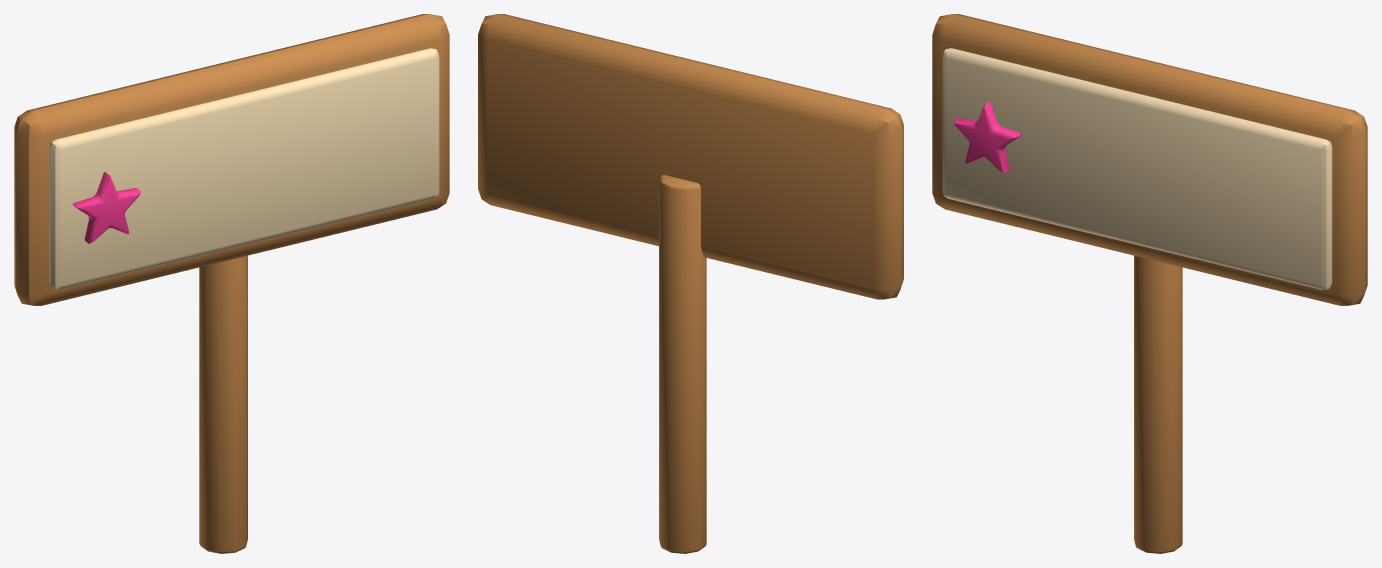
Rendered from base_signpost.obj.
The picture shows the model from 3 angles, left to right: view 1: azimuth 30°, elevation 25°; view 2: azimuth 150°, elevation 25°; view 3: azimuth 330°, elevation 25°; orthographic projection. The views are drawn at different scales.
Visible parts, largest first — view 1: base_signpost; view 2: base_signpost; view 3: base_signpost.
Part boxes in pixels (box(x1,y1,x2,y2)): base_signpost: box(14, 14, 449, 553); base_signpost: box(478, 14, 903, 553); base_signpost: box(932, 14, 1367, 553).
Bounding box in the file's own units: 6 × 6.5 × 1.05.
1 material, 1 textured.
